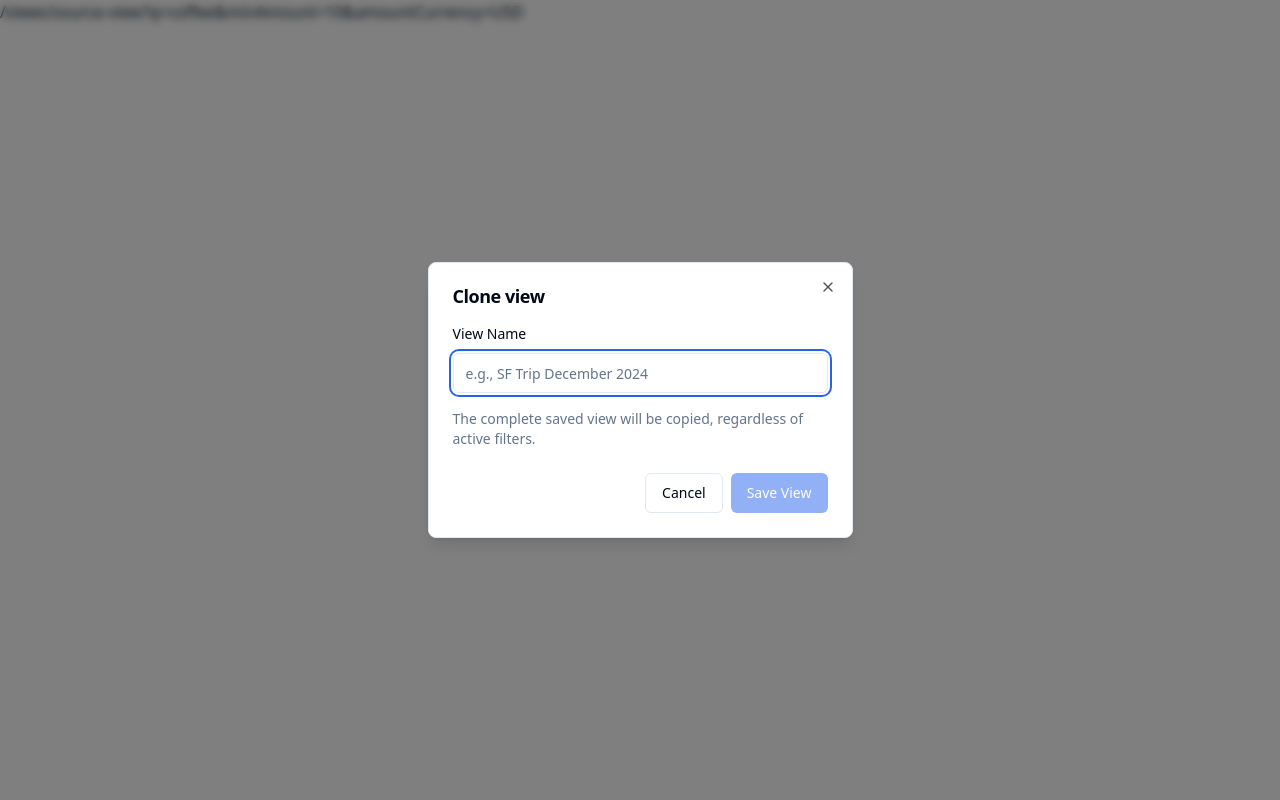
CreateViewModal › uses source-view recovery wording for stale clone membership without retrying
The image size is (1280, 800).
Type "Stale copy" into the field labelled "View Name" at (640, 373), box [452,353,828,393]
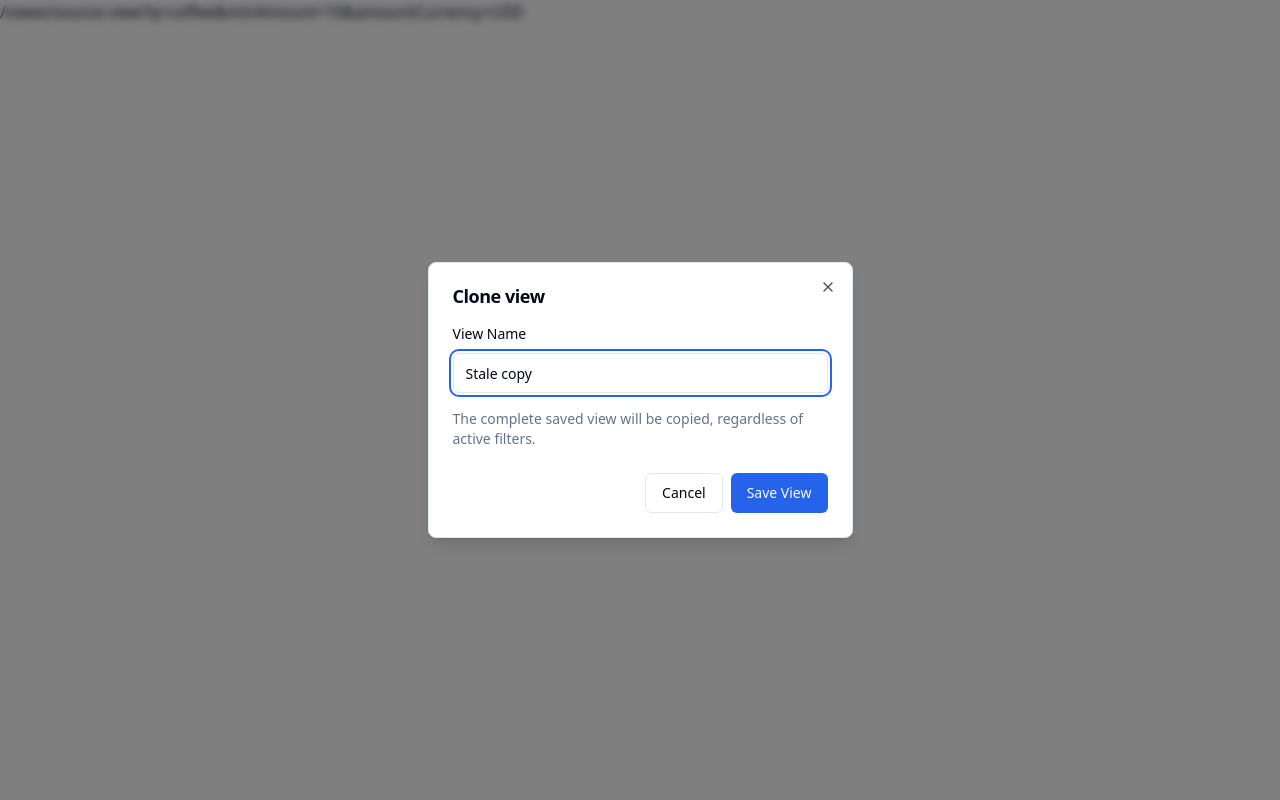
Click the button "Save View" at (779, 493), box [731,473,828,513]
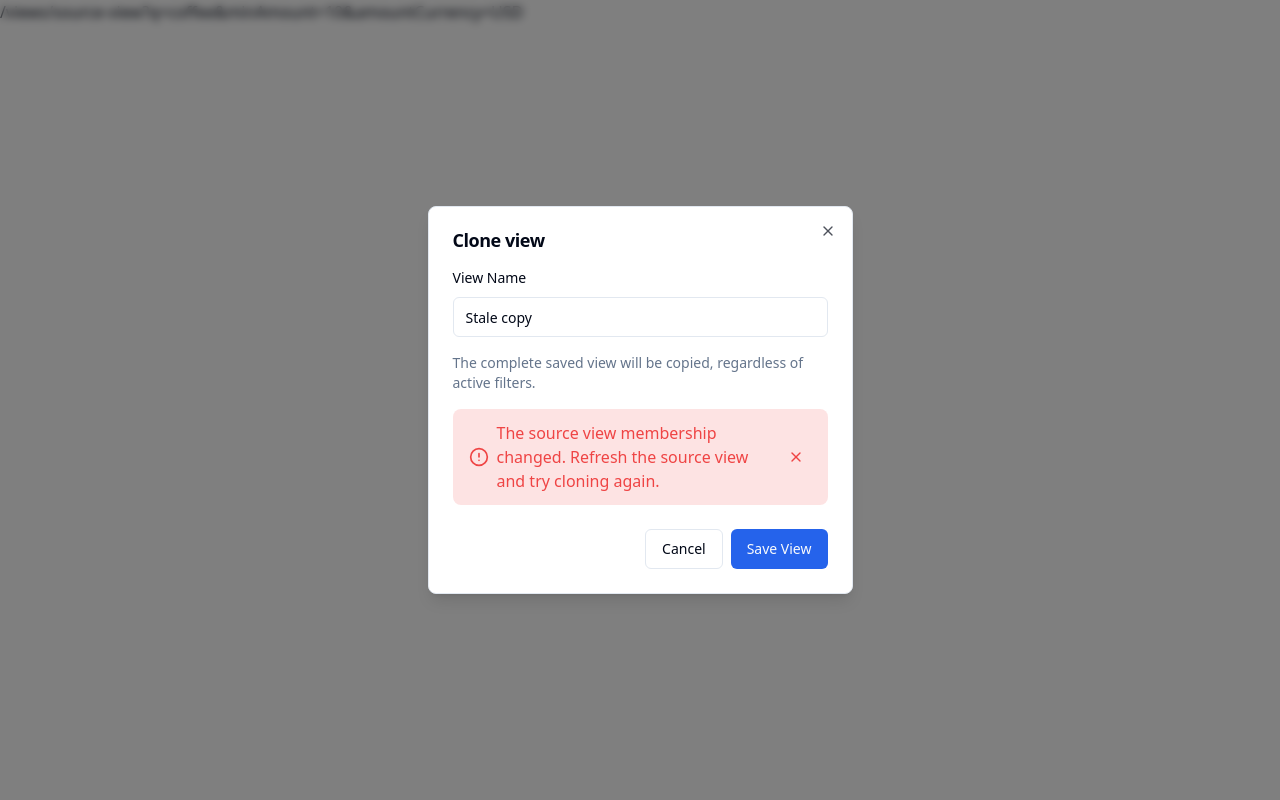
Expected: the message shows "source view membership changed", [496,422,748,492]
Expected: the message shows "Refresh the source view", [496,422,748,492]
